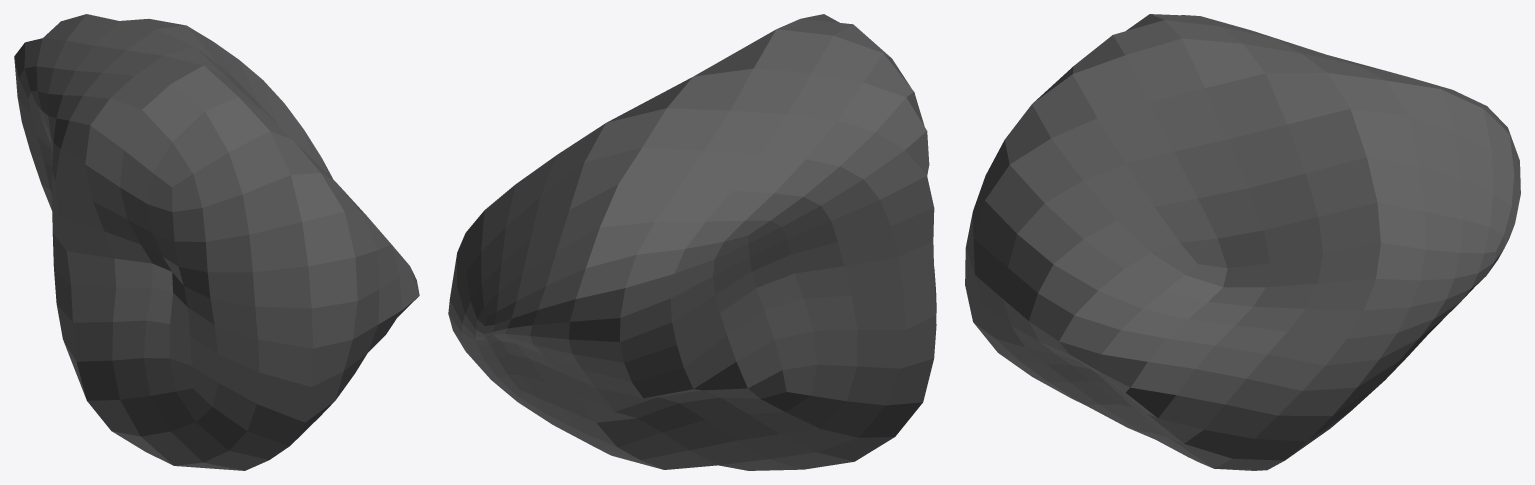
The model's file is rock.fbx.
The picture shows the model from 3 angles, left to right: view 1: azimuth 30°, elevation 25°; view 2: azimuth 150°, elevation 25°; view 3: azimuth 270°, elevation 25°; orthographic projection. The views are drawn at different scales.
Parts seen in each view (by area): view 1: rock; view 2: rock; view 3: rock.
Boxes of the visible parts, left/top/right/bottom form: rock: left=14, top=14, right=419, bottom=470; rock: left=448, top=14, right=936, bottom=470; rock: left=965, top=14, right=1520, bottom=470.
Bounding box in the file's own units: 136 × 147 × 186.
